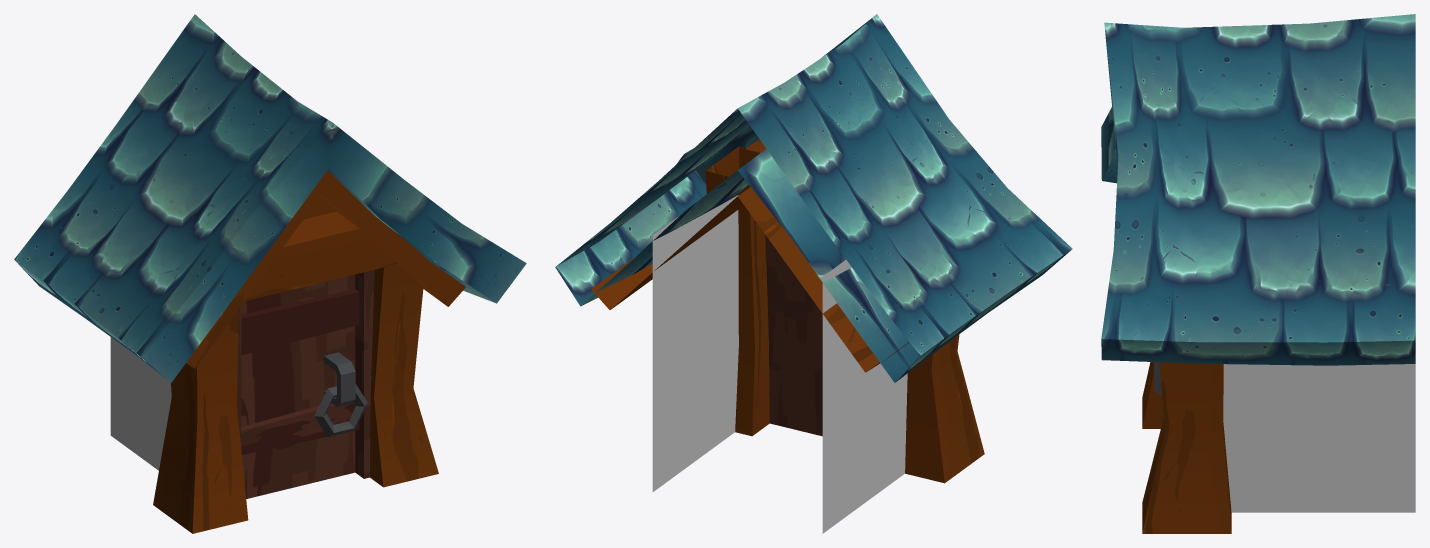
The model's file is SM_BLD_door_v01_01.fbx.
3 renders of one model, left to right at view 1: azimuth 30°, elevation 25°; view 2: azimuth 150°, elevation 25°; view 3: azimuth 270°, elevation 25°, orthographic. The views are drawn at different scales.
Parts seen in each view (by area): view 1: SM_BLD_door_v01_01; view 2: SM_BLD_door_v01_01; view 3: SM_BLD_door_v01_01.
Boxes of the visible parts, x1,y1,x2,y2 form: SM_BLD_door_v01_01: [14, 14, 526, 533]; SM_BLD_door_v01_01: [555, 14, 1072, 533]; SM_BLD_door_v01_01: [1101, 14, 1415, 533].
Size of the model in its own units: 321 by 319 by 201.
